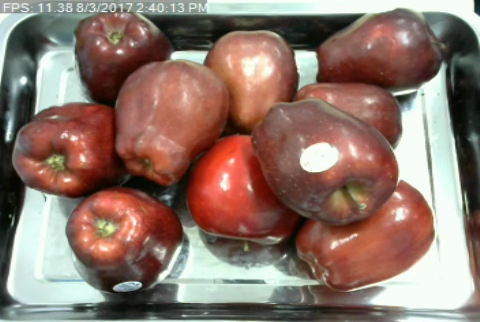Apple: (249, 95, 399, 226), (289, 177, 436, 294), (110, 57, 230, 186), (185, 130, 298, 248), (9, 98, 135, 199), (62, 186, 182, 292), (313, 6, 444, 96), (198, 27, 301, 137), (72, 9, 173, 103)
